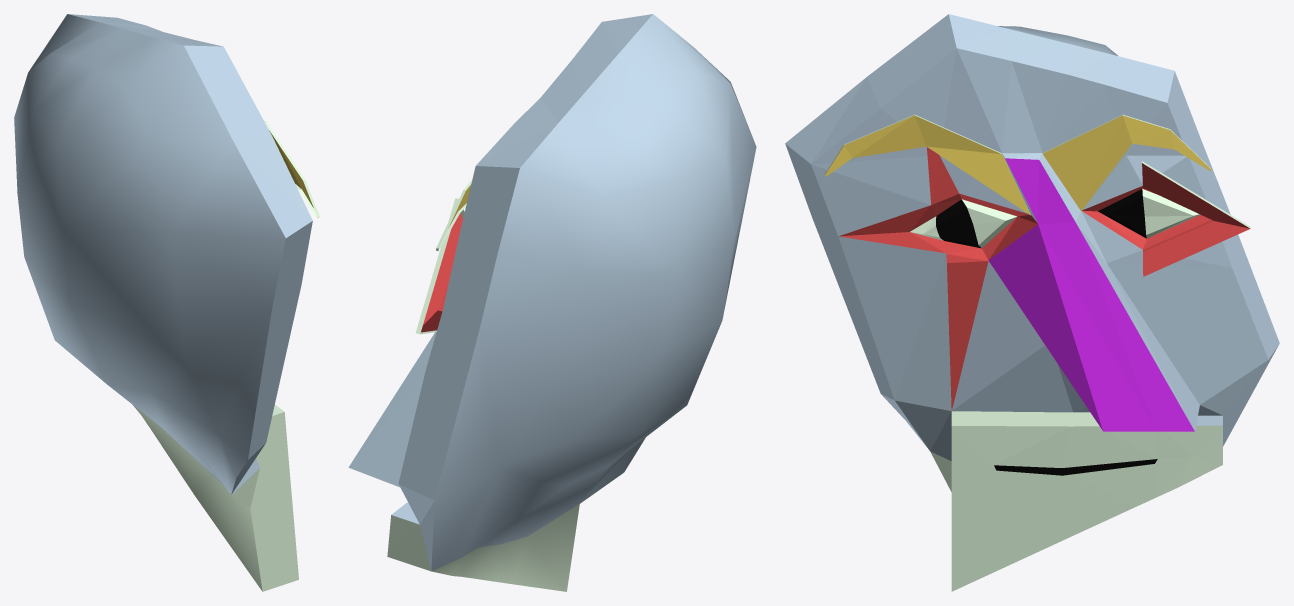
File: Palhaço cubismo.fbx
3 renders of one model, left to right at view 1: azimuth 30°, elevation 25°; view 2: azimuth 150°, elevation 25°; view 3: azimuth 270°, elevation 25°, orthographic. The views are drawn at different scales.
Visible parts, largest first — view 1: Cube; view 2: Cube; view 3: Cube.
Part boxes in pixels (x1,y1,x2,y2): Cube: (14, 14, 319, 591); Cube: (348, 14, 756, 591); Cube: (785, 14, 1279, 591).
Size of the model in its own units: 175 by 370 by 314.
